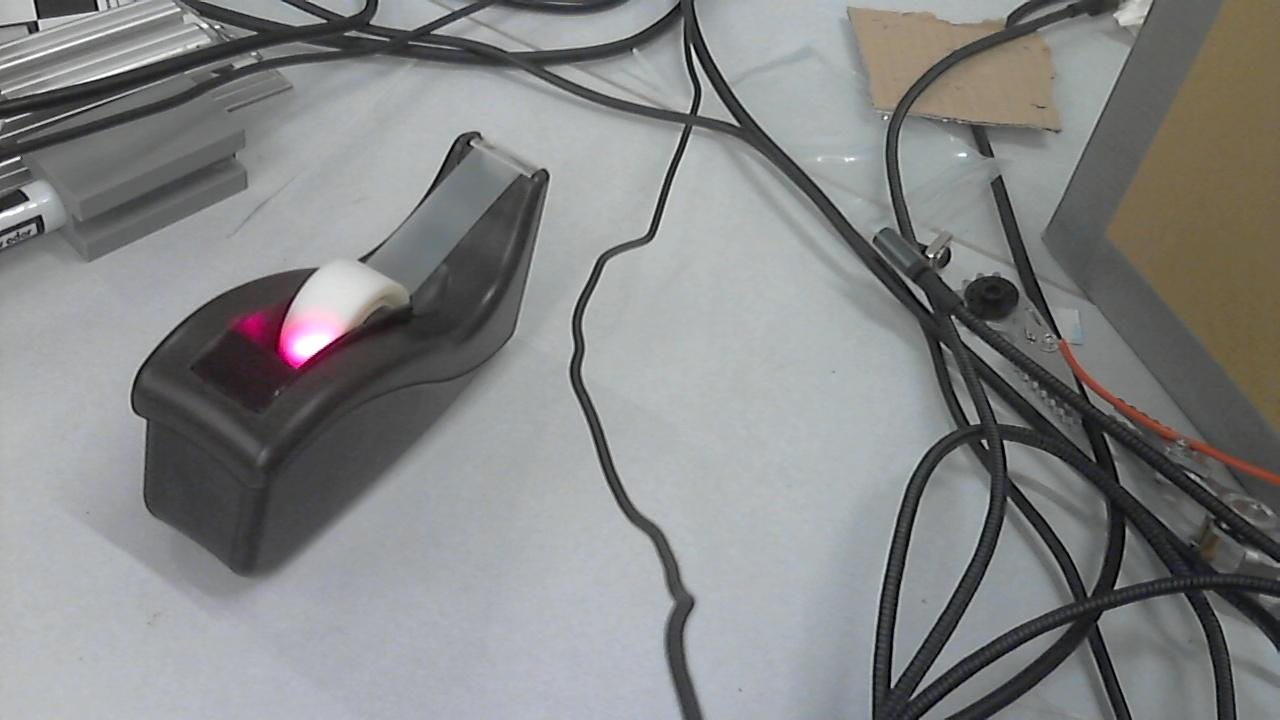Object desktop tape dispenser - Material plastic tape - Pdfname 8pMd29OsIRjD: (264, 308, 358, 366)
